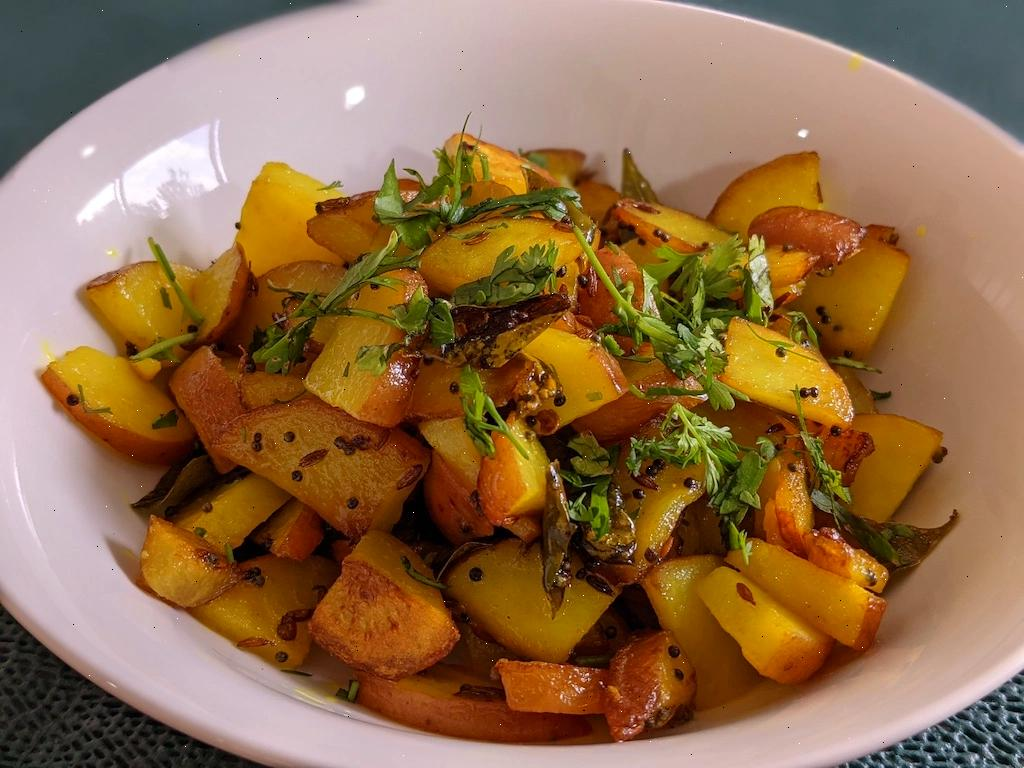aloo sabji: (85, 161, 952, 699)
